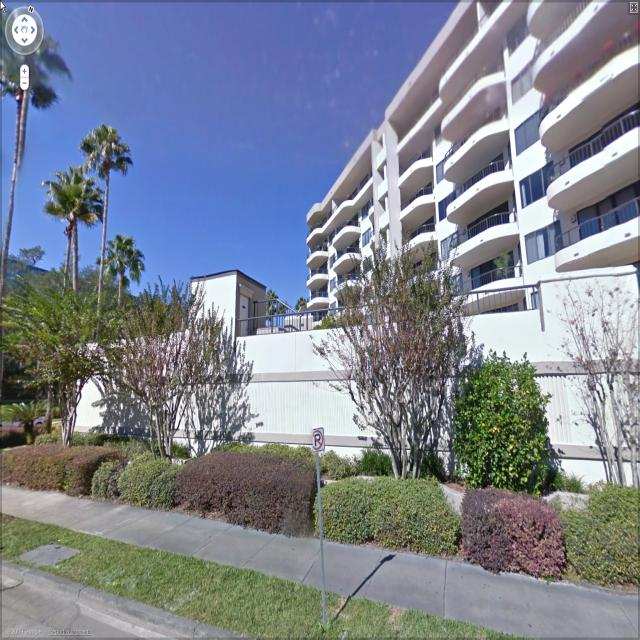b_1: (301, 12, 639, 290)
b_2: (30, 2, 640, 454)
